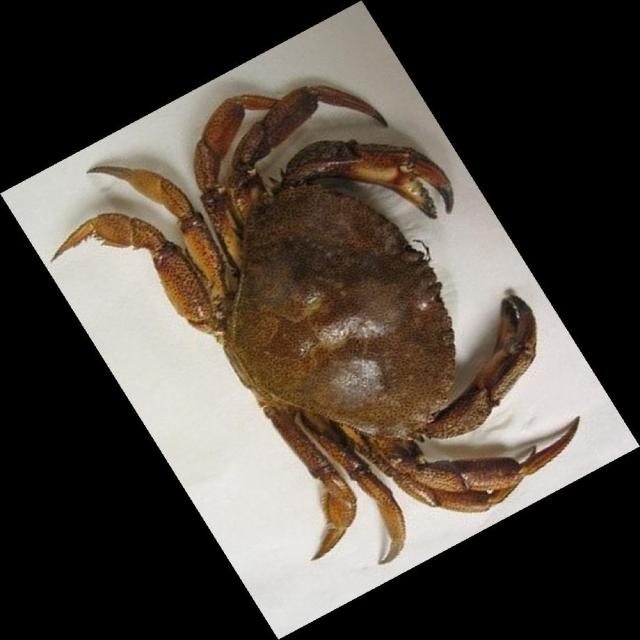Native Rock crab: (53, 86, 578, 563)
